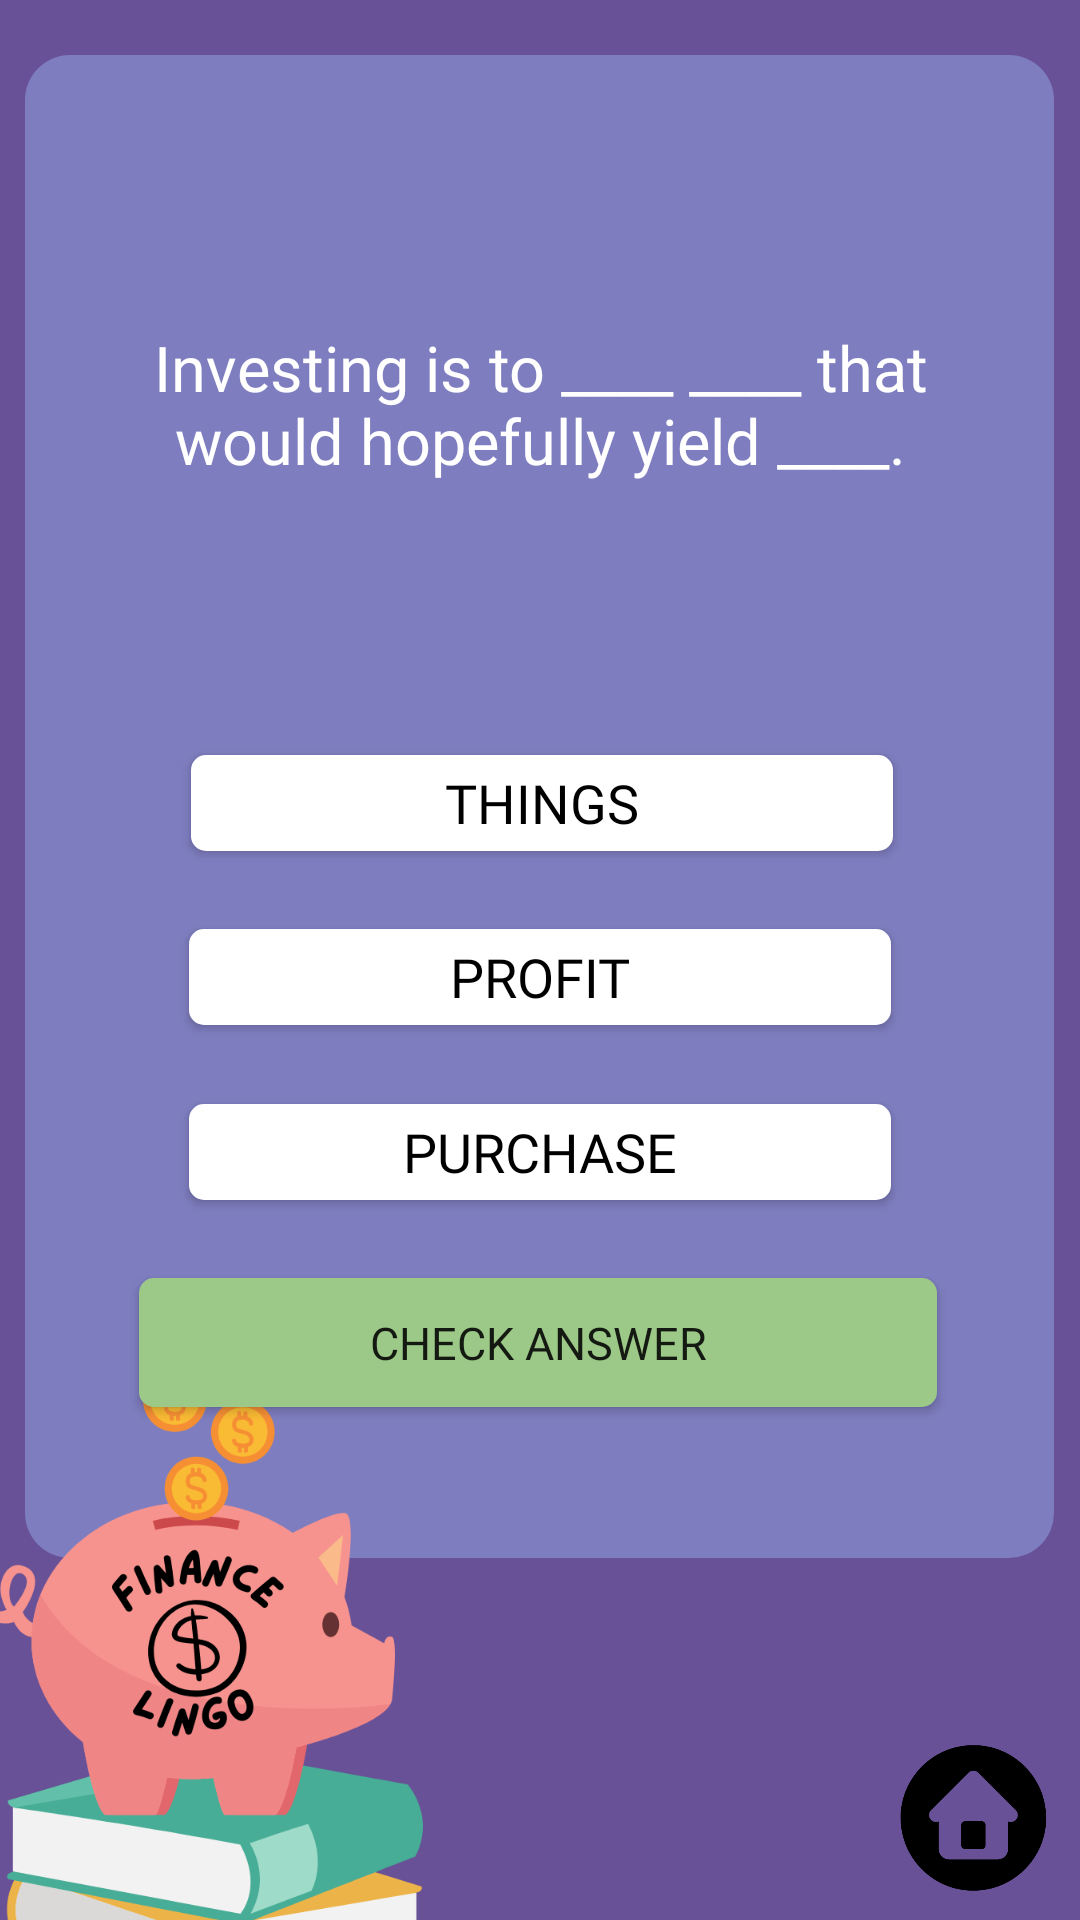

Icons on this 1080 x 1920 Android screen, each with its box as {"x1": x1, "y1": y1, "x2": x2, "y2": y2}:
home: {"x1": 900, "y1": 1745, "x2": 1046, "y2": 1891}
